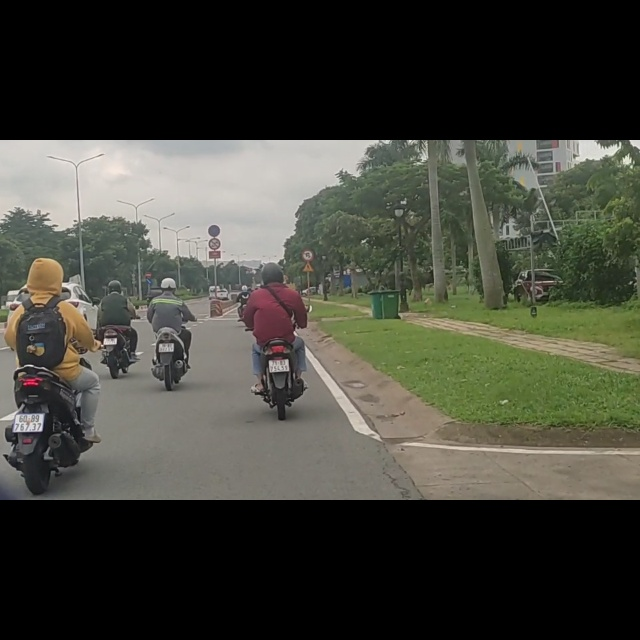bien_cam: (301, 213, 315, 235), (301, 193, 314, 215), (208, 151, 221, 172), (209, 174, 221, 194), (145, 235, 153, 245), (145, 245, 152, 256)
